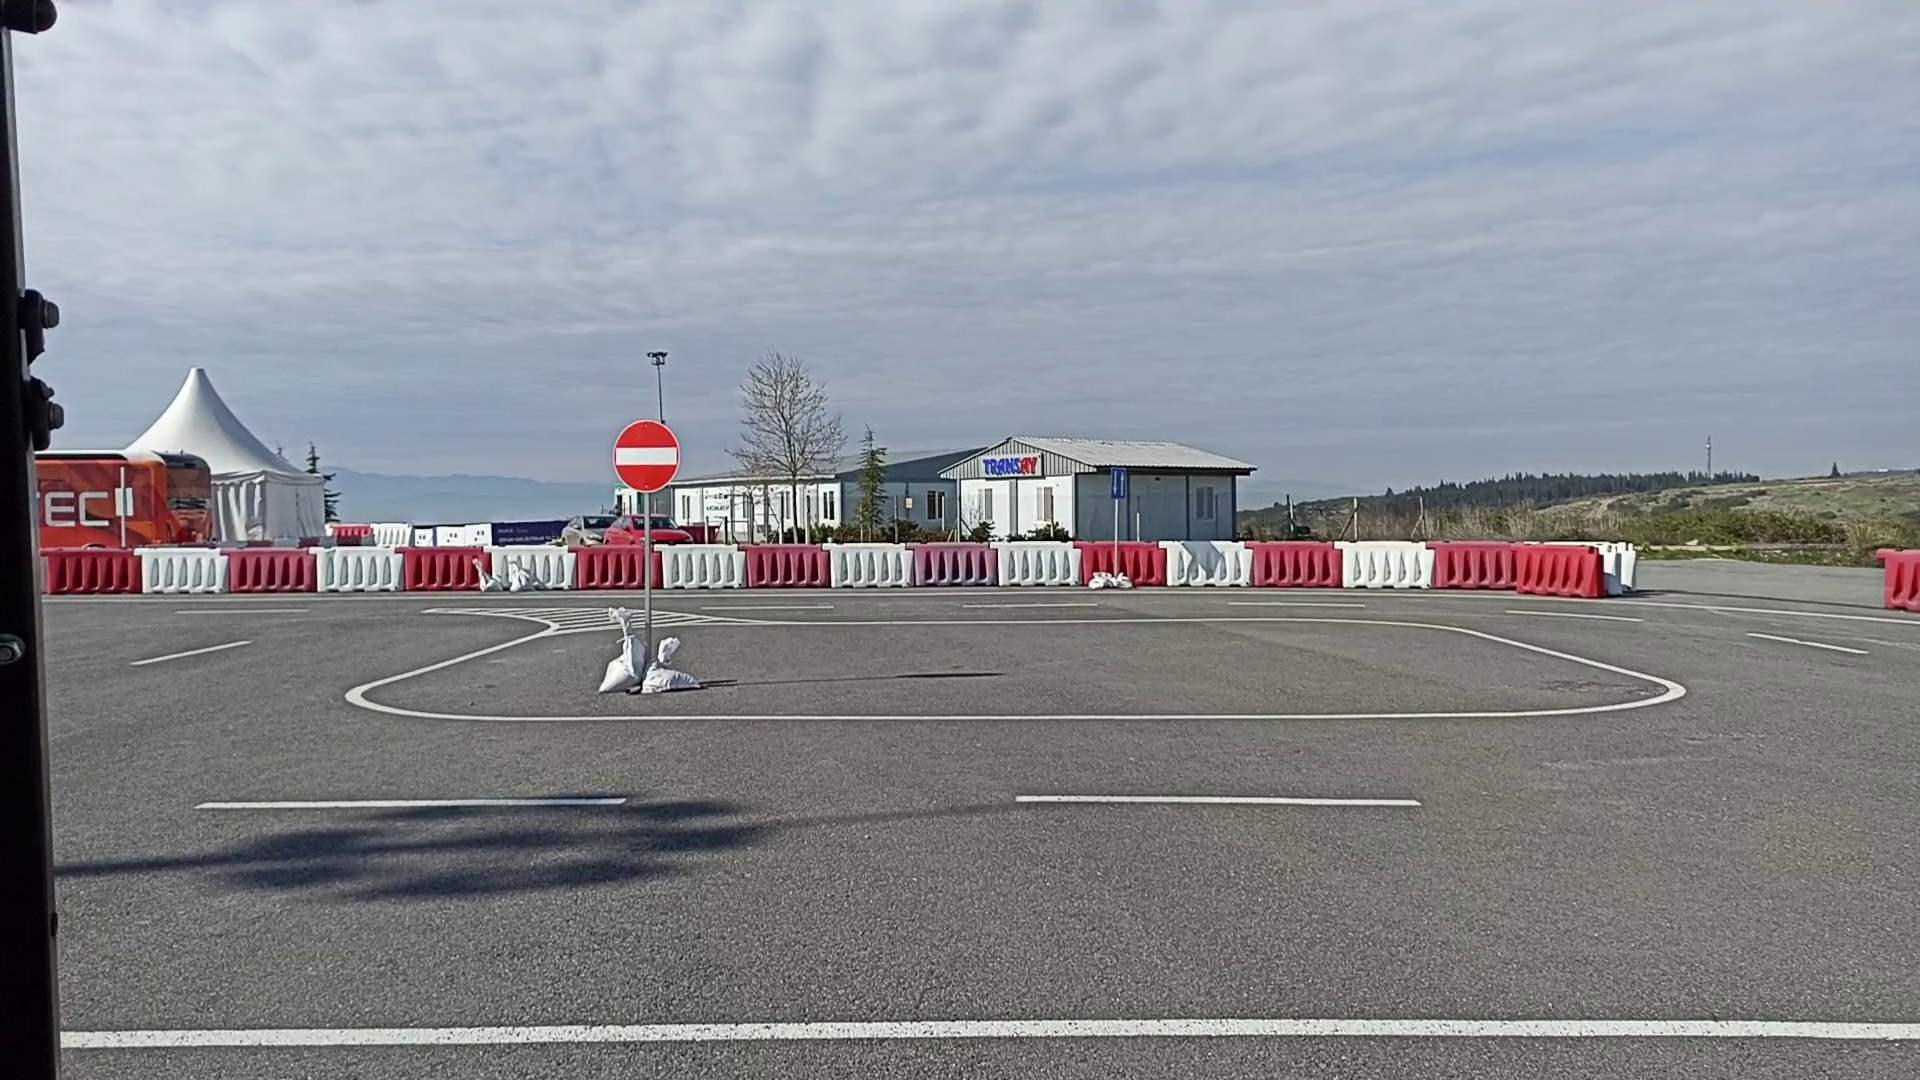noentryway: (611, 417, 683, 495)
